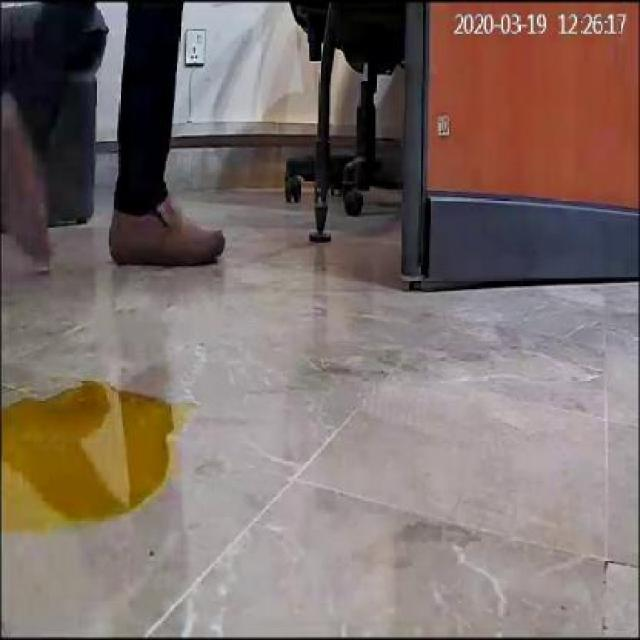spill: (2, 382, 178, 528)
